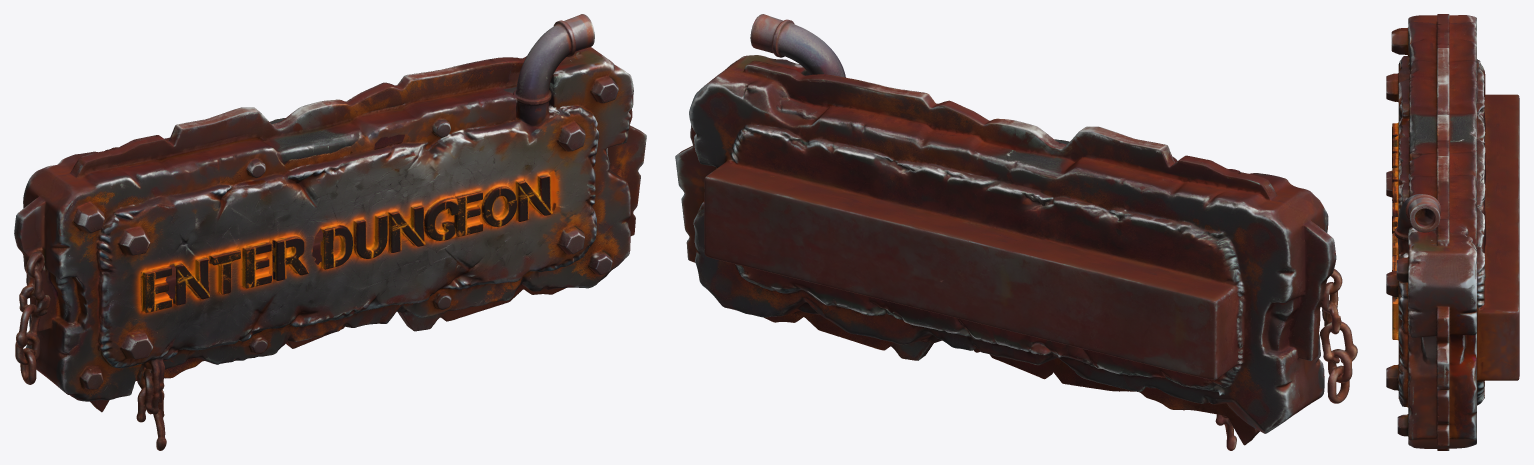
The model's file is enter_dungeon.glb.
3 renders of one model, left to right at view 1: azimuth 30°, elevation 25°; view 2: azimuth 150°, elevation 25°; view 3: azimuth 270°, elevation 25°, orthographic. The views are drawn at different scales.
Size of the model in its own units: 1.9 by 0.907 by 0.3773.
Materials: 1 (1 with a texture image).
